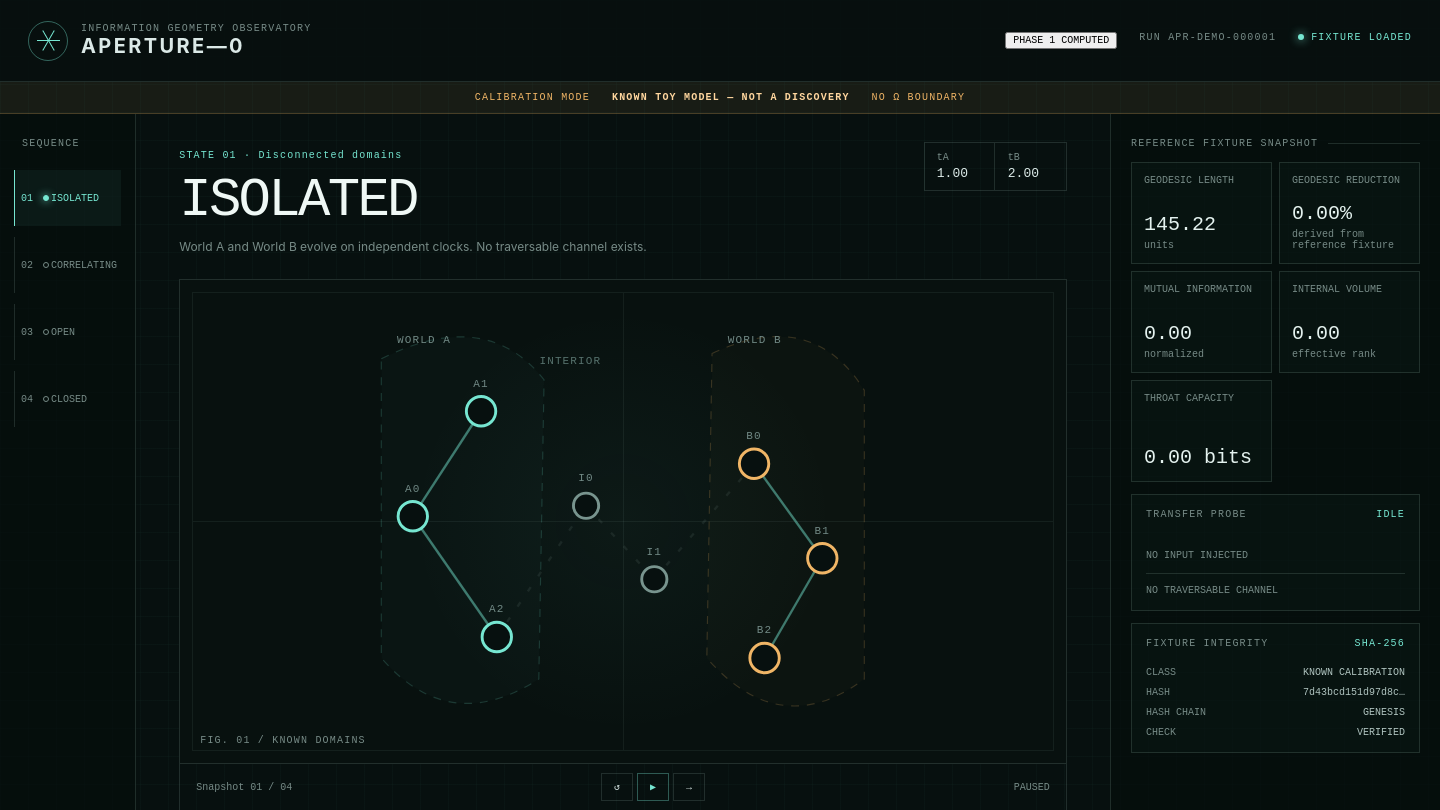
Test: Aperture-0 observatory › shows geodesic reduction as derived from reference fixture values
Expected: the text "GEODESIC REDUCTION" is shown, [1292,175,1407,186]
Expected: the text "0.00%" is shown, [1292,202,1352,225]
Click the button with aria-label "Open OPEN snapshot" at (68,332), box [14,304,121,360]
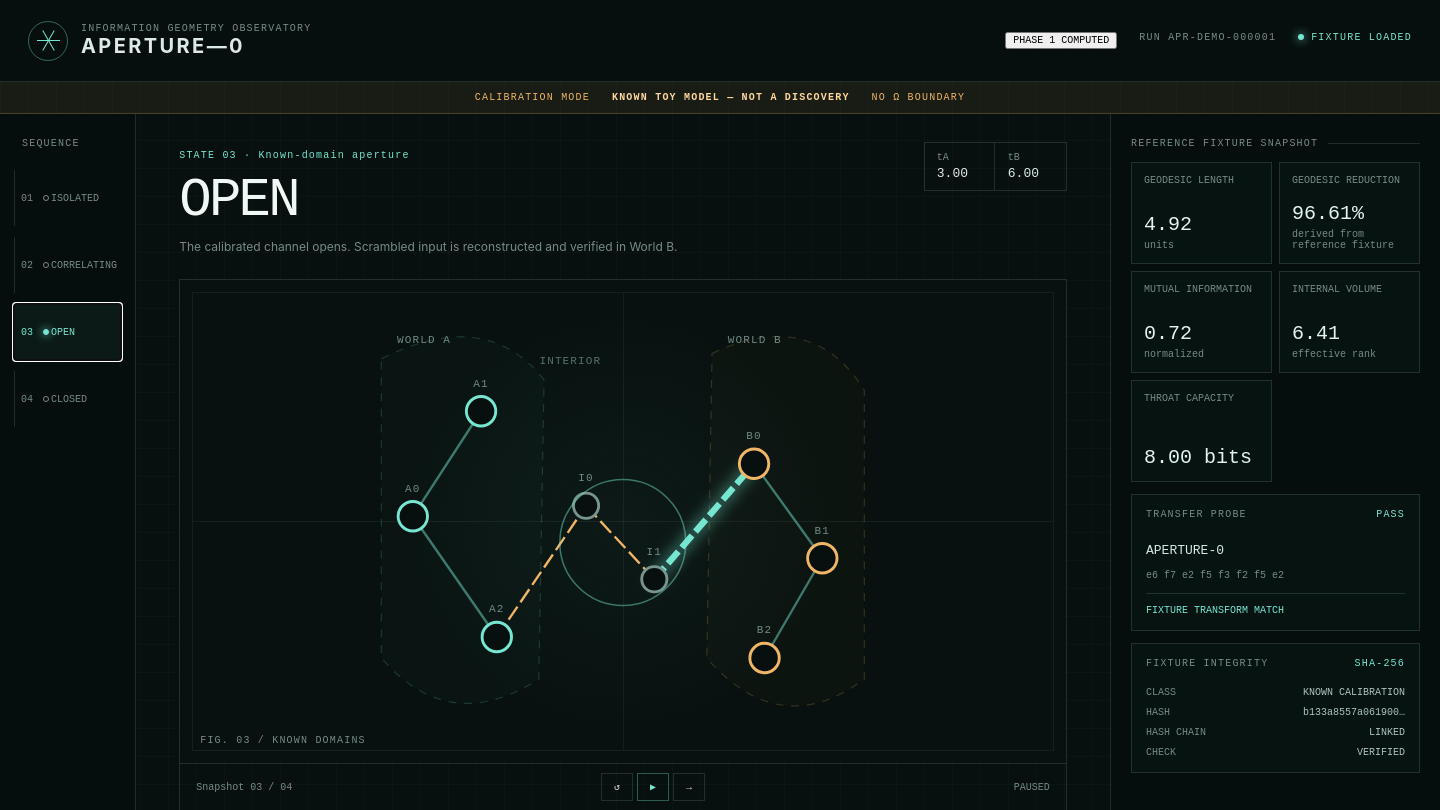
Now the text "96.61%" is shown, box [1292,202,1364,225]
